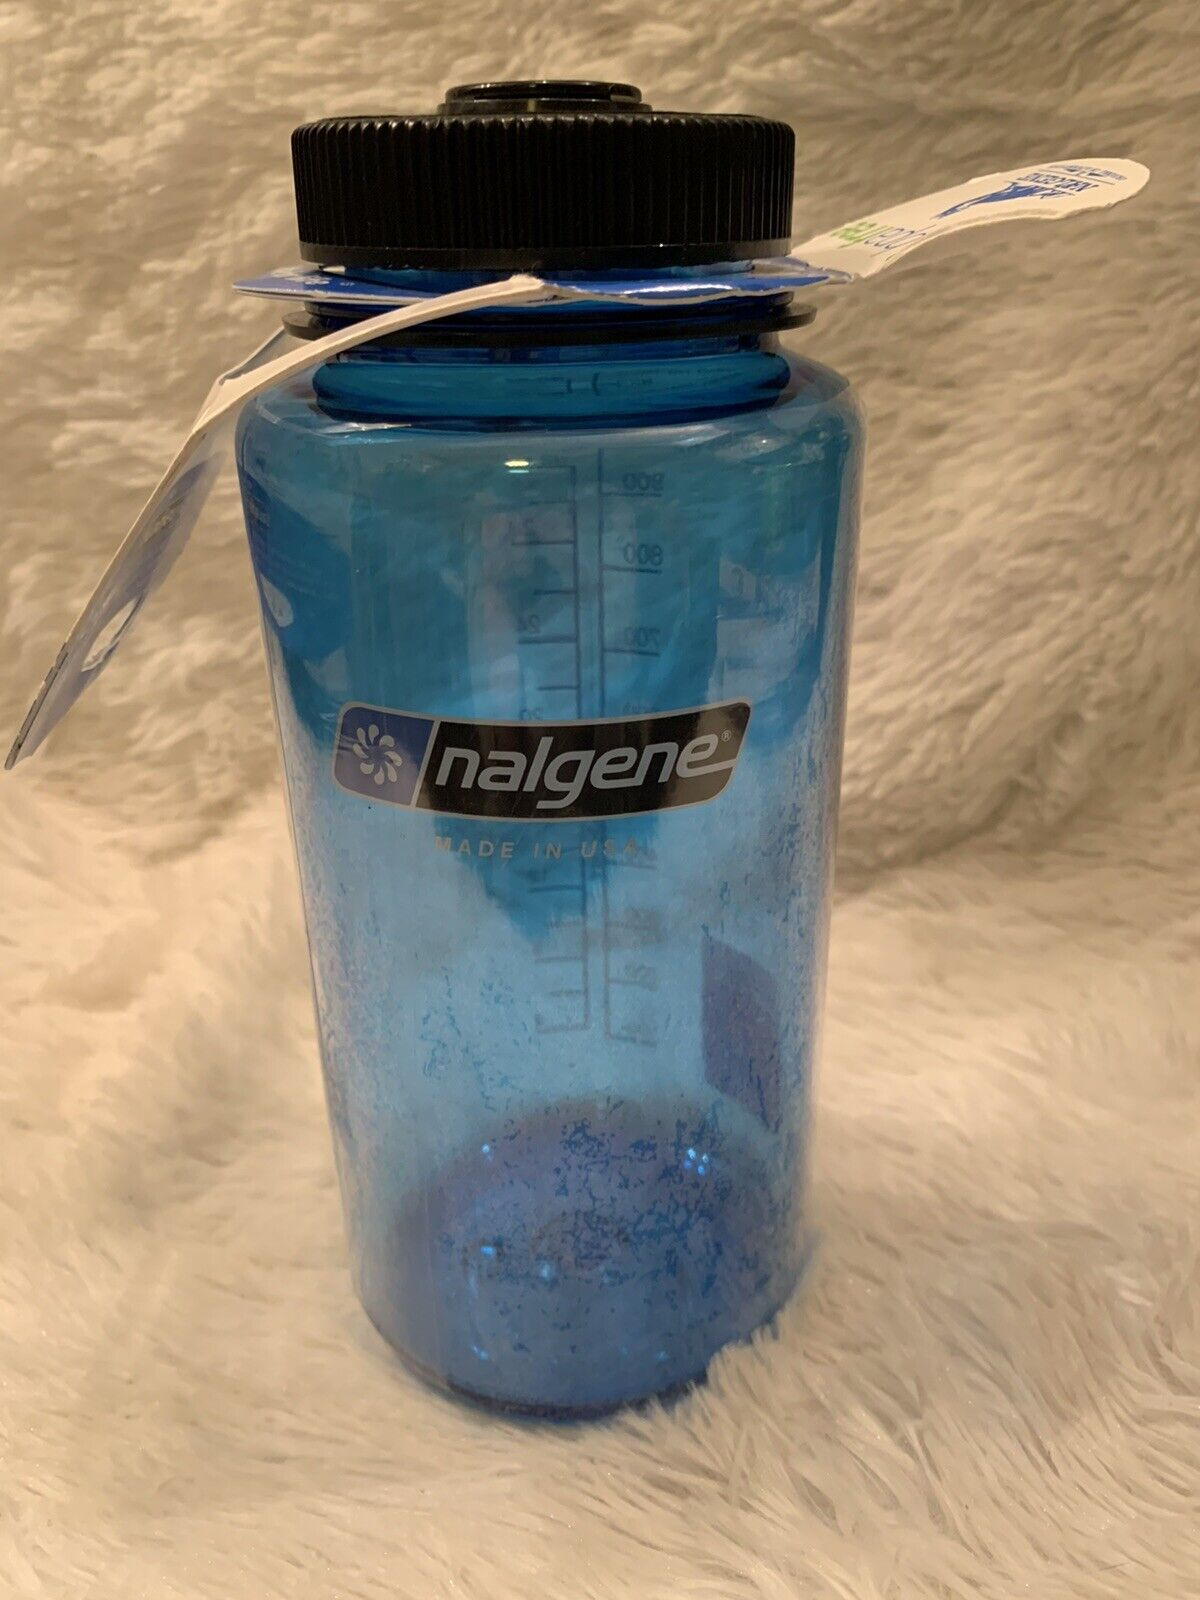bottle: (226, 77, 865, 1430)
